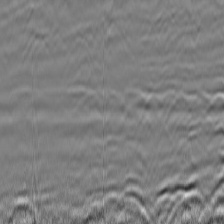cavities: (149, 81, 224, 175), (0, 69, 55, 137)
